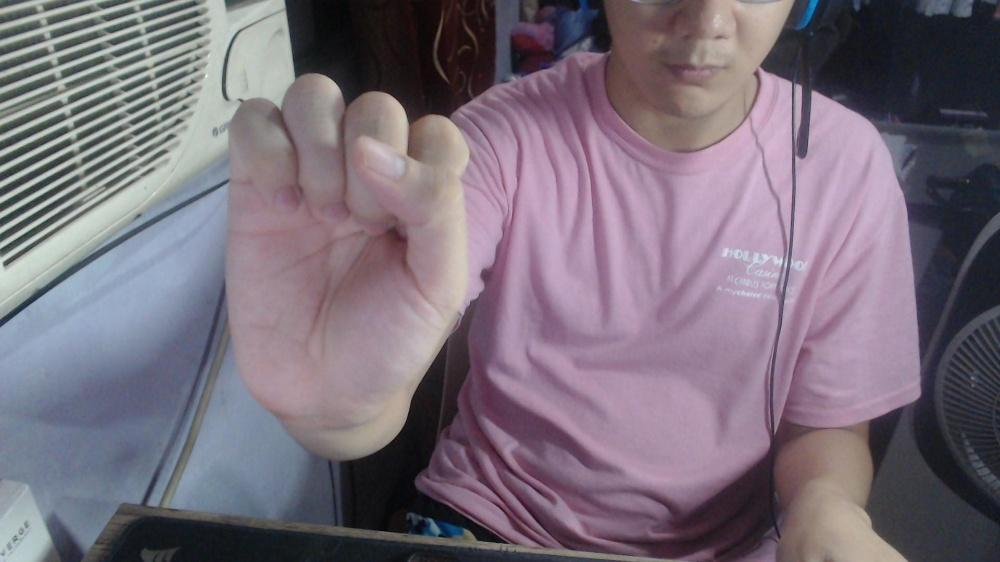s: (220, 66, 471, 419)
